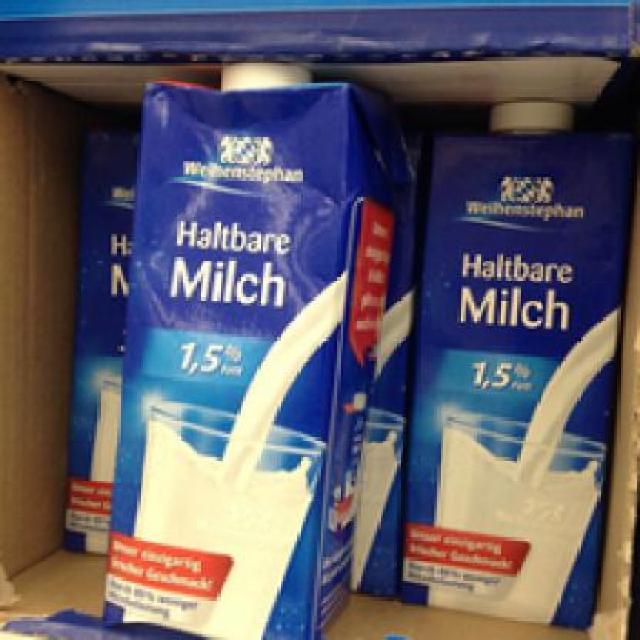Milk: (99, 60, 395, 637), (400, 86, 629, 634)
